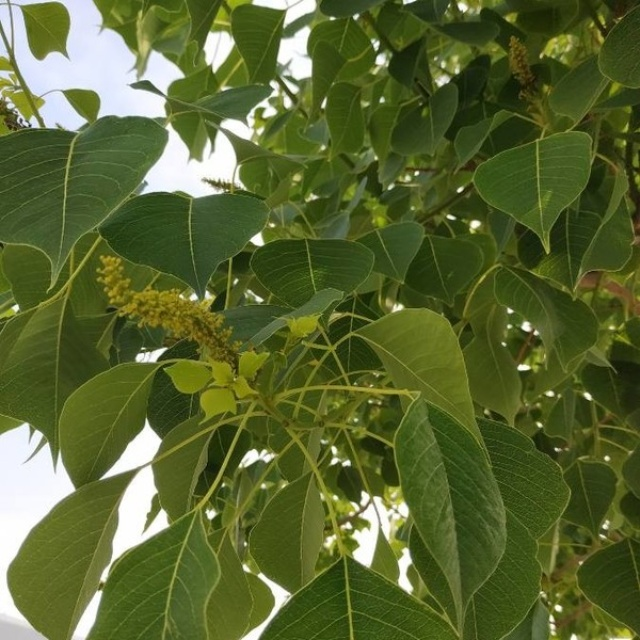obstacle: (58, 77, 539, 566)
